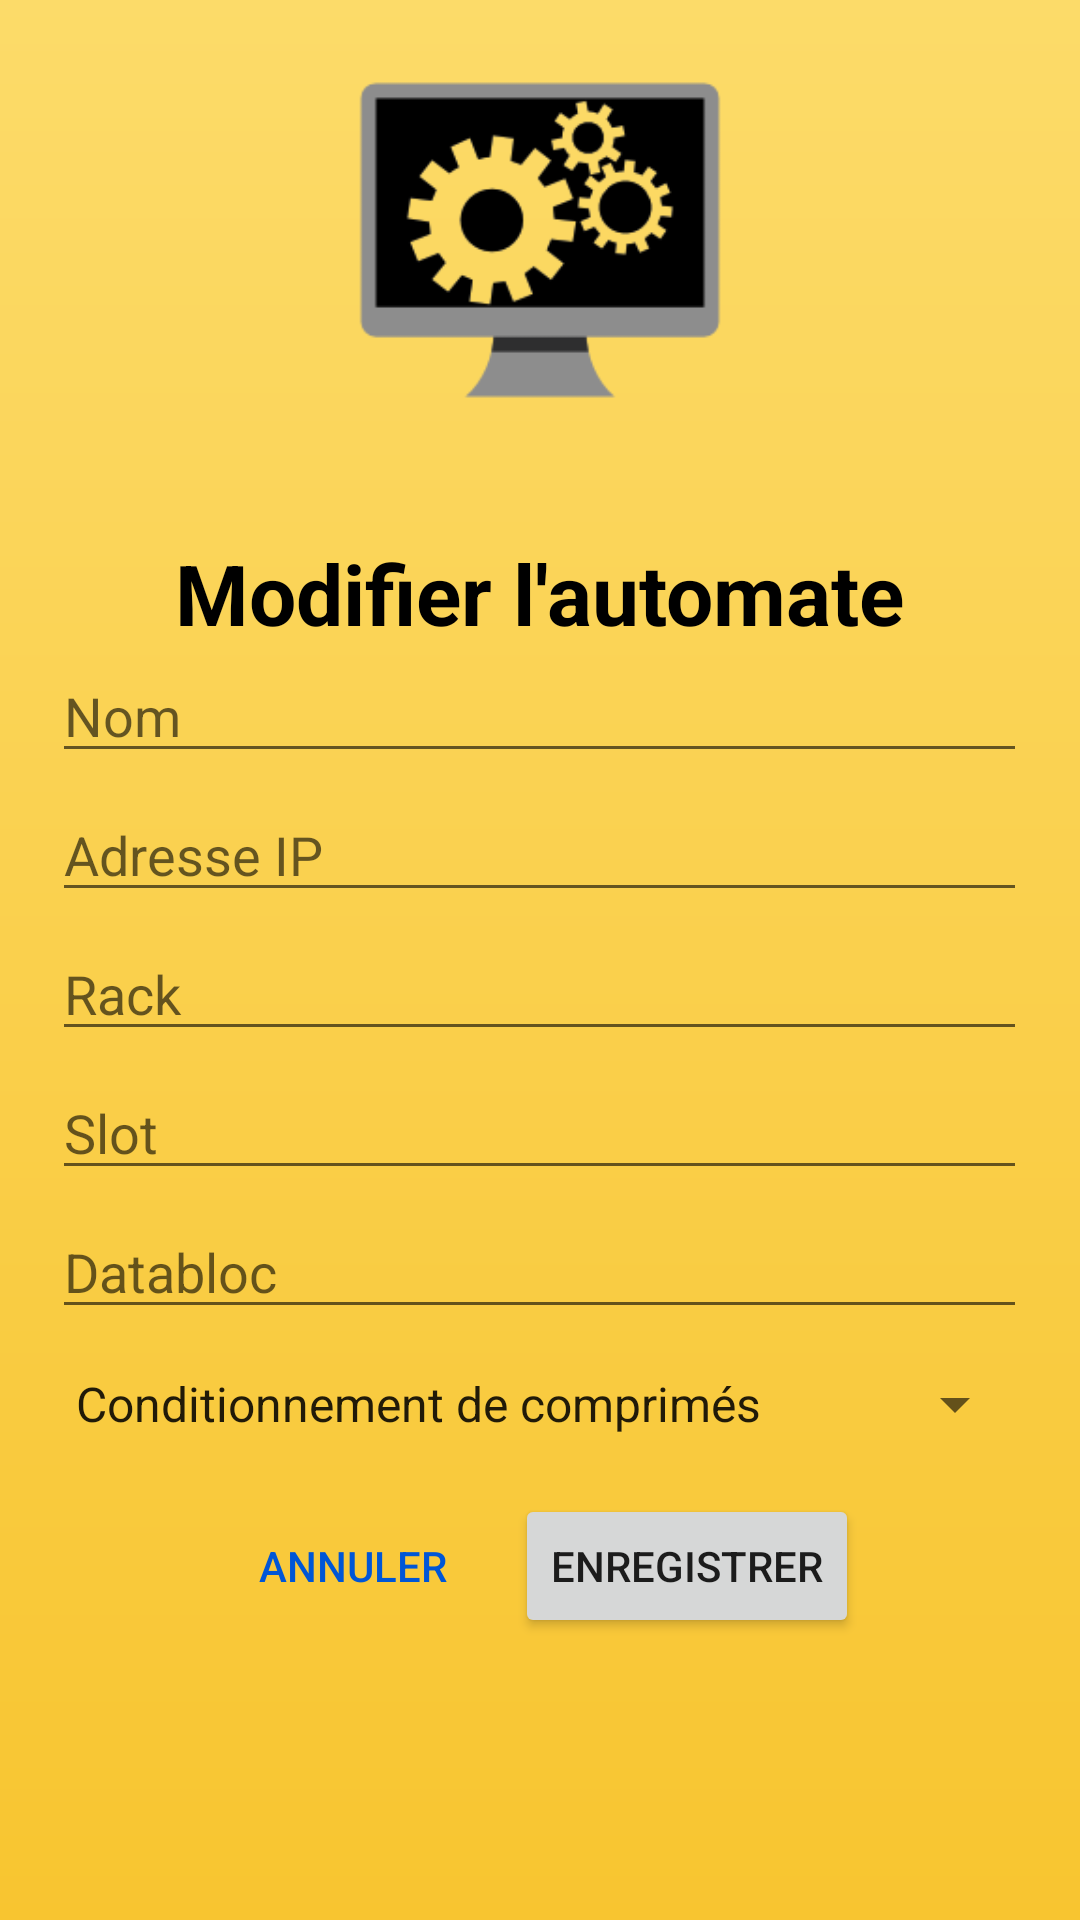

Where icons sit on this 1080x1920 app screen, as [x1=x1, y1=y1, x2=x2, y2=y2]:
automaton: [x1=360, y1=82, x2=720, y2=398]
